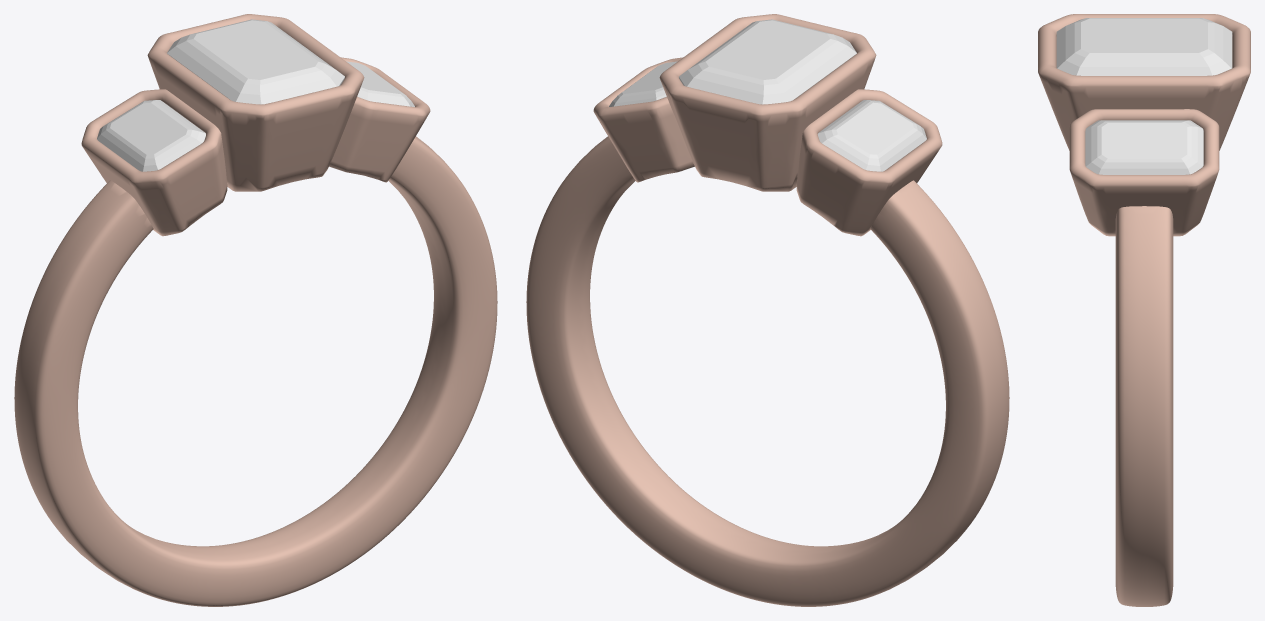
The model's file is diamond-emerald-rosegold-bezelset-straightband-3stone.glb.
3 renders of one model, left to right at view 1: azimuth 30°, elevation 25°; view 2: azimuth 150°, elevation 25°; view 3: azimuth 270°, elevation 25°, orthographic.
Parts seen in each view (by area): view 1: metal, stone.001, side.001, side.005; view 2: metal, stone.001, side.001, side.005; view 3: metal, stone.001, side.005.
Boxes of the visible parts, left/top/right/bottom form: metal: left=14, top=14, right=497, bottom=606; stone.001: left=167, top=19, right=344, bottom=104; side.001: left=97, top=100, right=205, bottom=171; side.005: left=346, top=61, right=414, bottom=106; metal: left=526, top=14, right=1009, bottom=606; stone.001: left=679, top=19, right=856, bottom=104; side.001: left=817, top=100, right=926, bottom=171; side.005: left=609, top=61, right=677, bottom=106; metal: left=1038, top=14, right=1250, bottom=606; stone.001: left=1056, top=18, right=1232, bottom=75; side.005: left=1085, top=120, right=1203, bottom=174.
Bounding box in the file's own units: 20.49 × 22.94 × 8.11.
